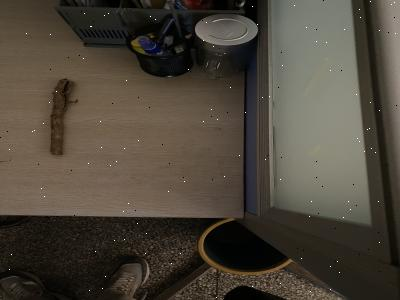Root: (50, 78, 74, 155)
